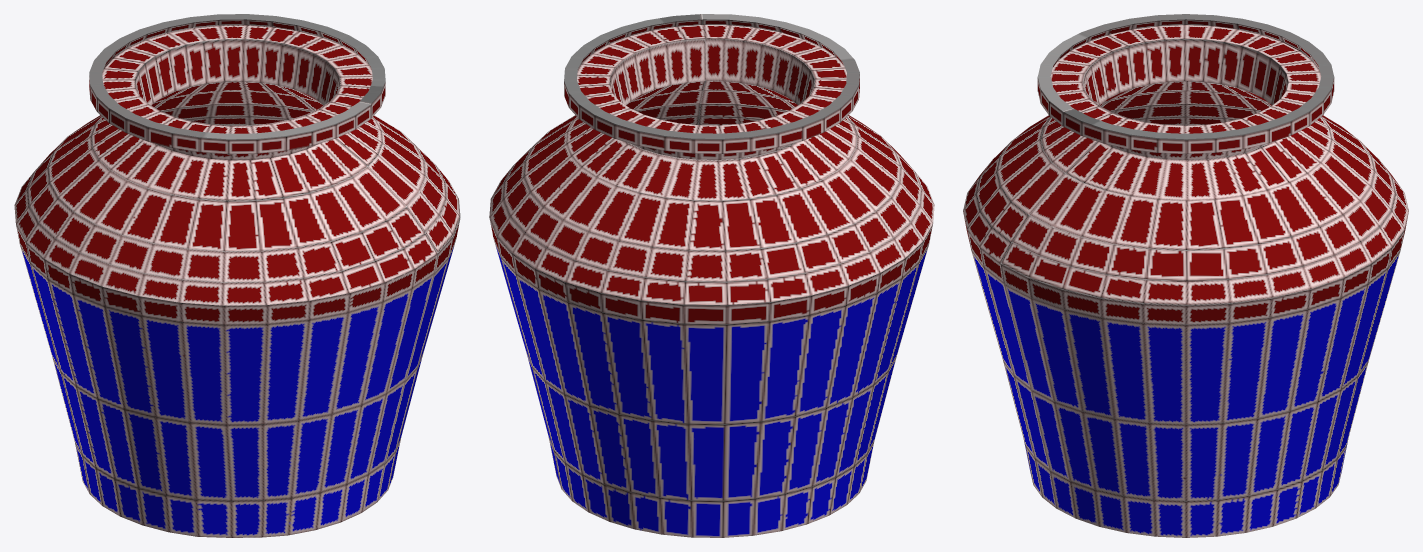
Rendered from full_water.obj.
3 renders of one model, left to right at view 1: azimuth 30°, elevation 25°; view 2: azimuth 150°, elevation 25°; view 3: azimuth 270°, elevation 25°, orthographic.
Parts seen in each view (by area): view 1: Circle; view 2: Circle; view 3: Circle.
Boxes of the visible parts, box(x1,y1,x2,y2) form: Circle: box(14, 14, 460, 537); Circle: box(489, 14, 934, 537); Circle: box(963, 14, 1408, 537).
Bounding box in the file's own units: 2.86 × 2.8 × 2.86.
